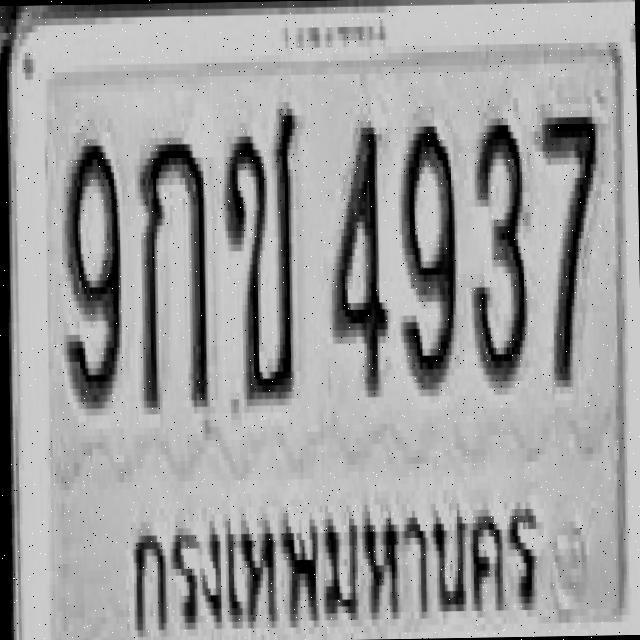10GorGai: (135, 130, 208, 407)
19ChorChang: (220, 99, 302, 402)
3: (468, 111, 528, 388)
4: (326, 117, 388, 394)
7: (537, 106, 600, 384)
9: (61, 132, 121, 408), (397, 119, 457, 389)
Bangkok: (112, 471, 543, 640)
